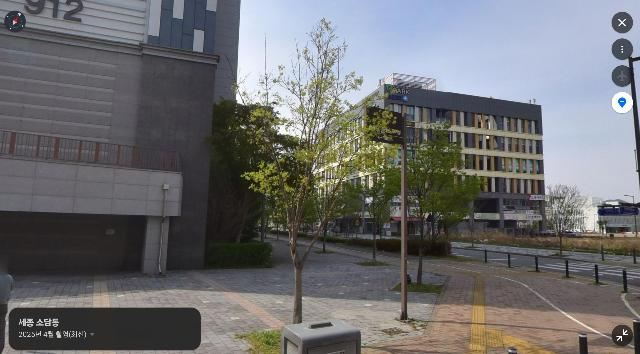other: (230, 17, 402, 325), (384, 115, 485, 295), (205, 97, 288, 252), (347, 166, 393, 263), (299, 162, 346, 253), (543, 181, 595, 255)
